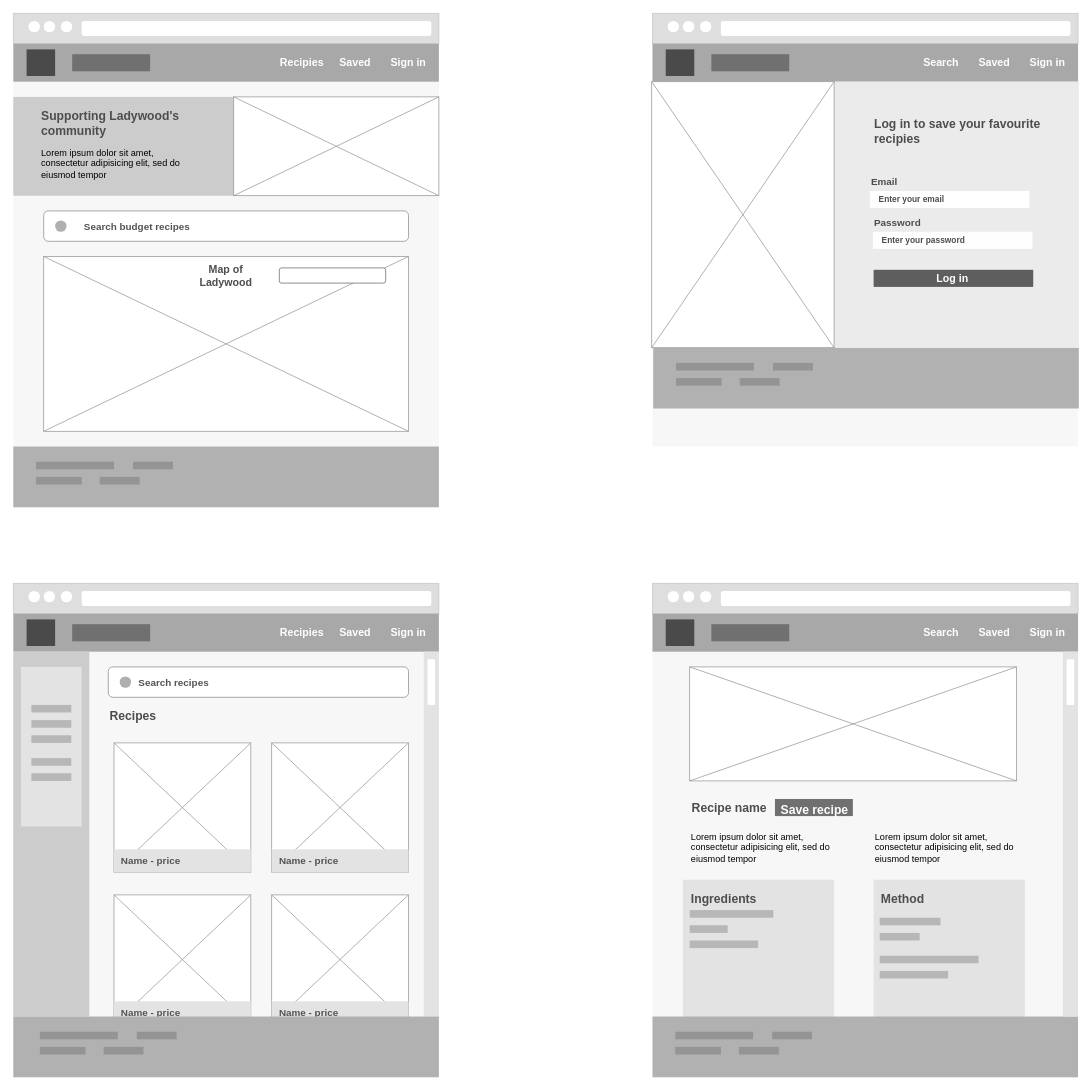
Image size: 1092x1091. Some labels were removed from this diagram. The centre of each missing label's shape, as x and y in pixels:
"Filters/search" goes at pixel 332 275.
"Sort by" goes at pixel 51 746.
